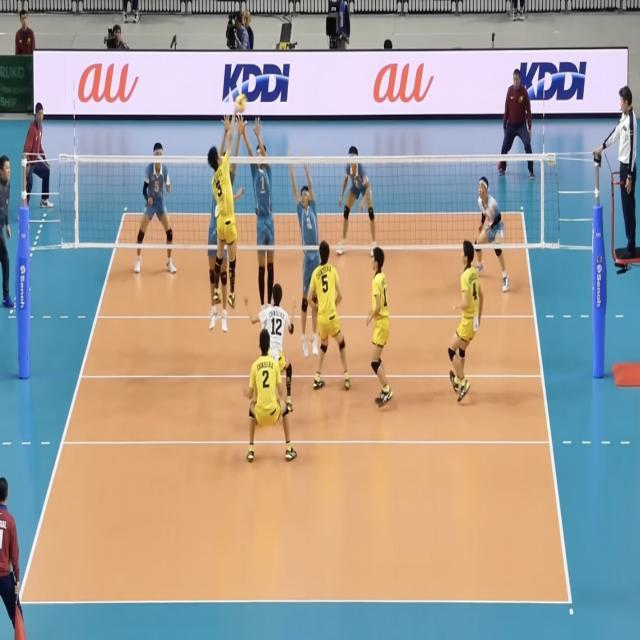spike: (207, 93, 249, 319)
